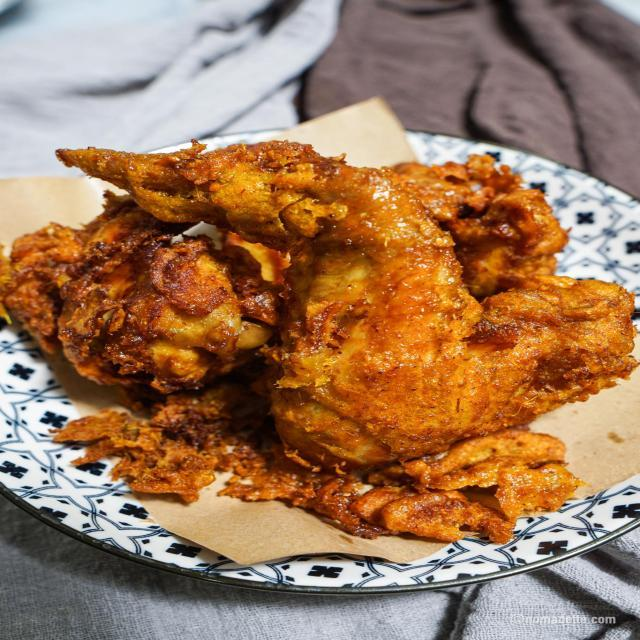ayam_goreng: (47, 109, 637, 572)
